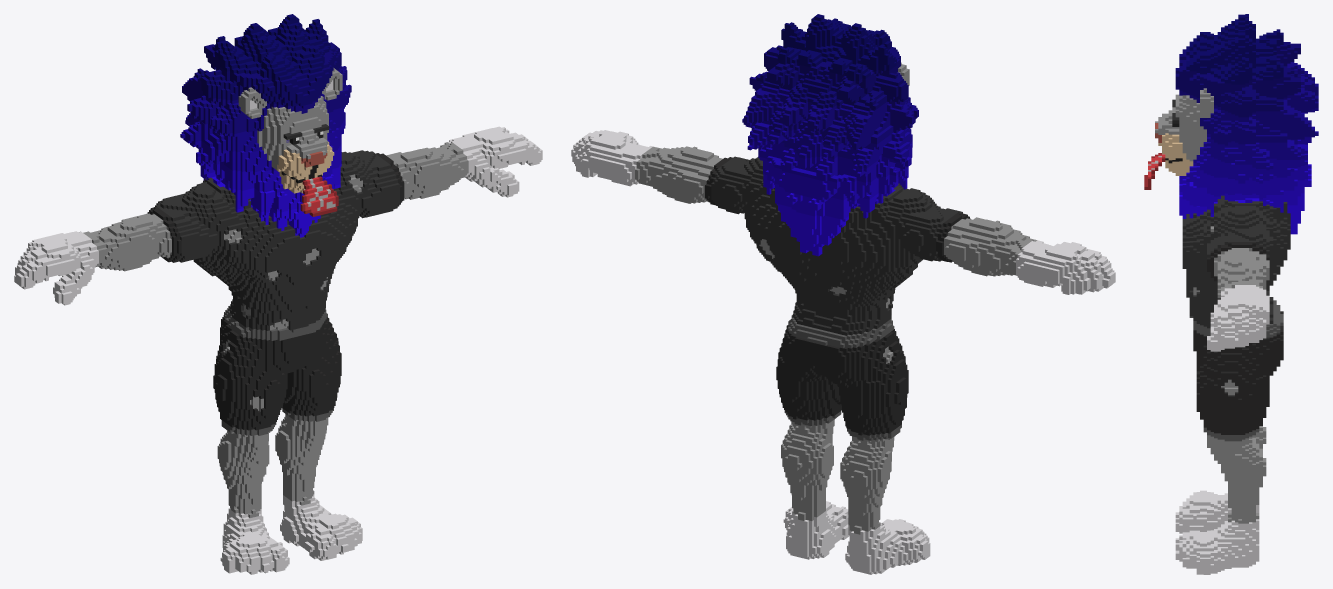
File: 457-HB-x0PJA.fbx
The picture shows the model from 3 angles, left to right: view 1: azimuth 30°, elevation 25°; view 2: azimuth 150°, elevation 25°; view 3: azimuth 270°, elevation 25°; orthographic projection. The views are drawn at different scales.
Parts seen in each view (by area): view 1: meat; view 2: meat; view 3: meat.
Part boxes in pixels (<box>): meat: <box>14,14,542,574</box>; meat: <box>571,14,1115,574</box>; meat: <box>1144,14,1318,574</box>.
Size of the model in its own units: 17.2 by 16.5 by 5.
5 materials, 5 textured.
